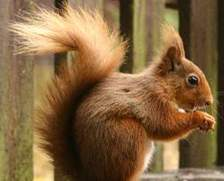Ardilla: (73, 42, 222, 181)
